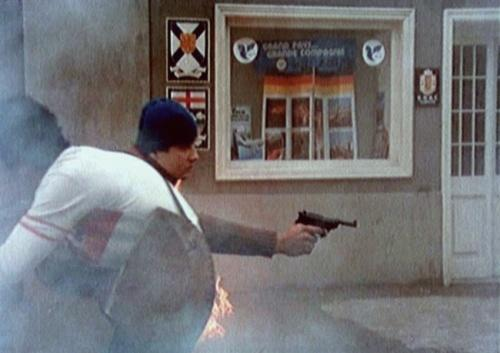Gun: (294, 208, 359, 238)
